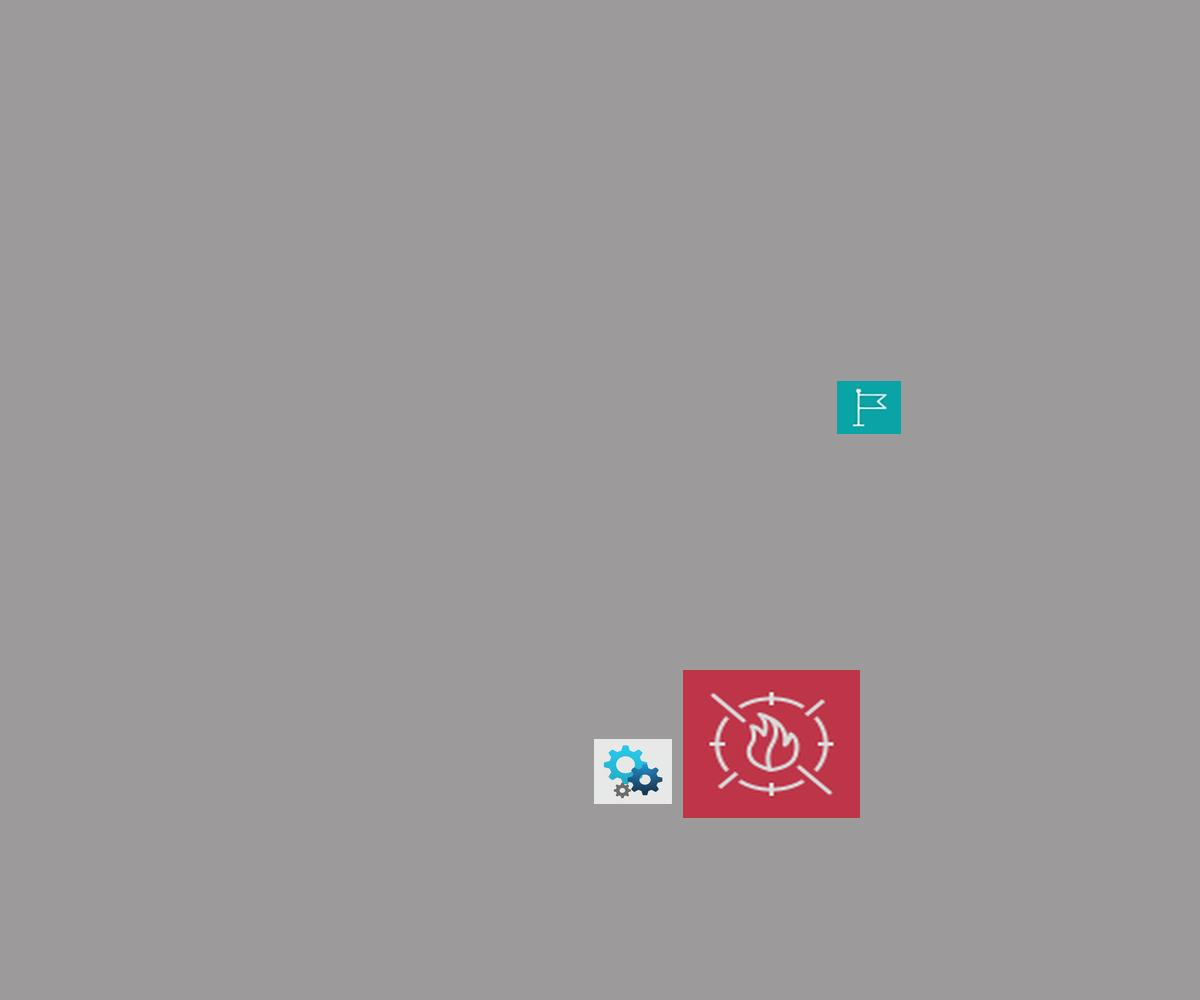AWS-Region: (837, 381, 901, 434)
AWS-WAF: (683, 670, 860, 818)
Azure_api: (594, 739, 672, 804)
